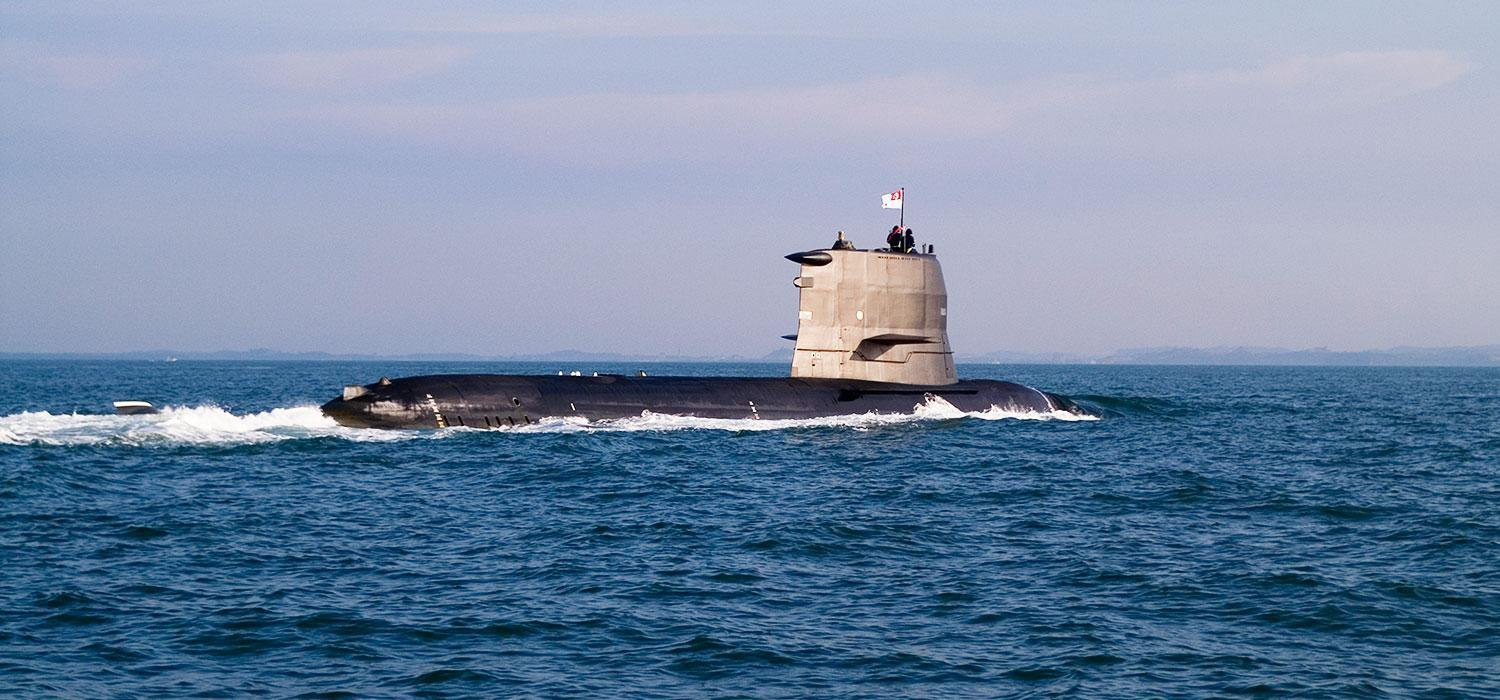Submarine: (0, 80, 1182, 608)
